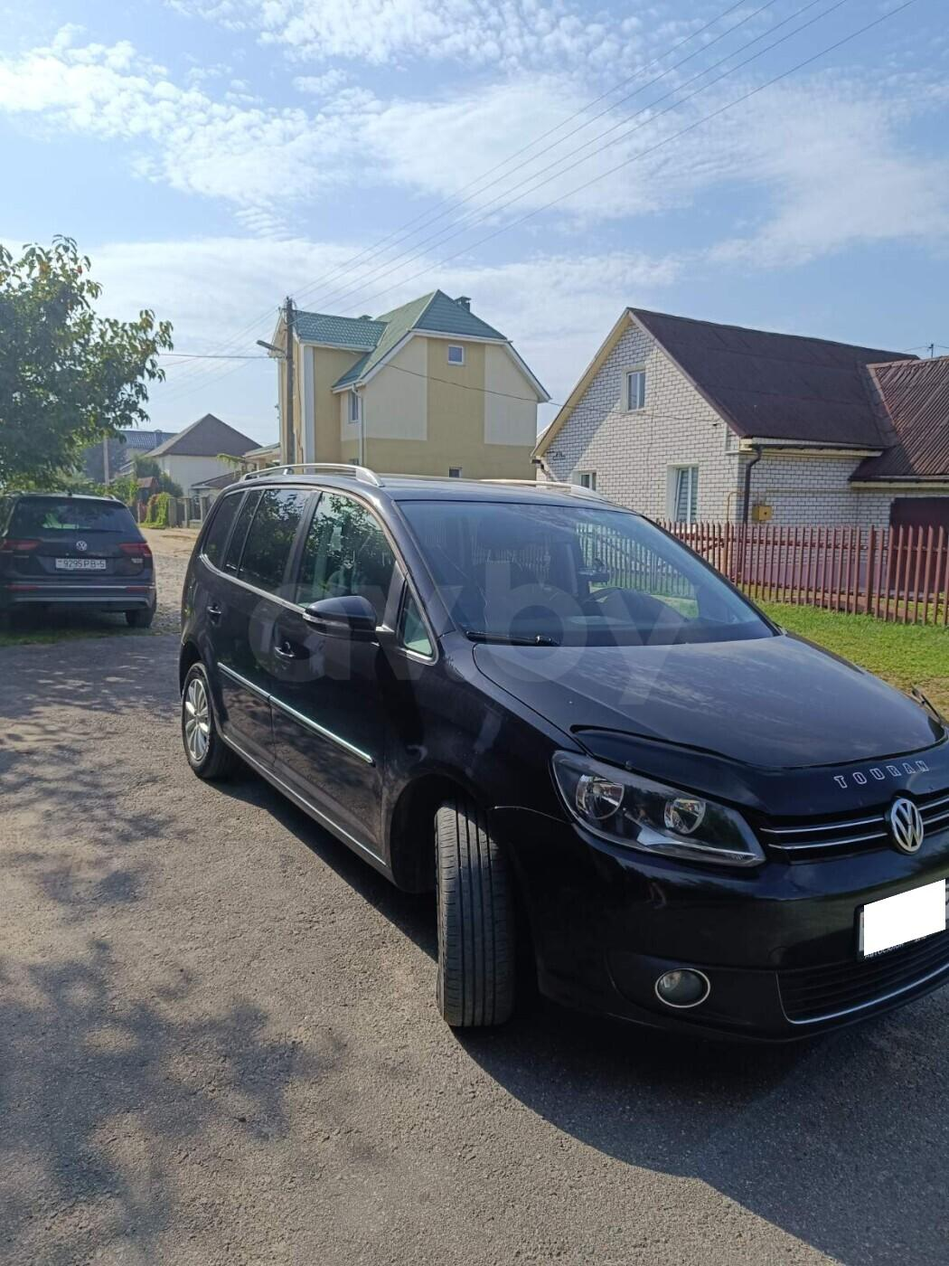Touran_2010-2015: (177, 456, 949, 1062)
